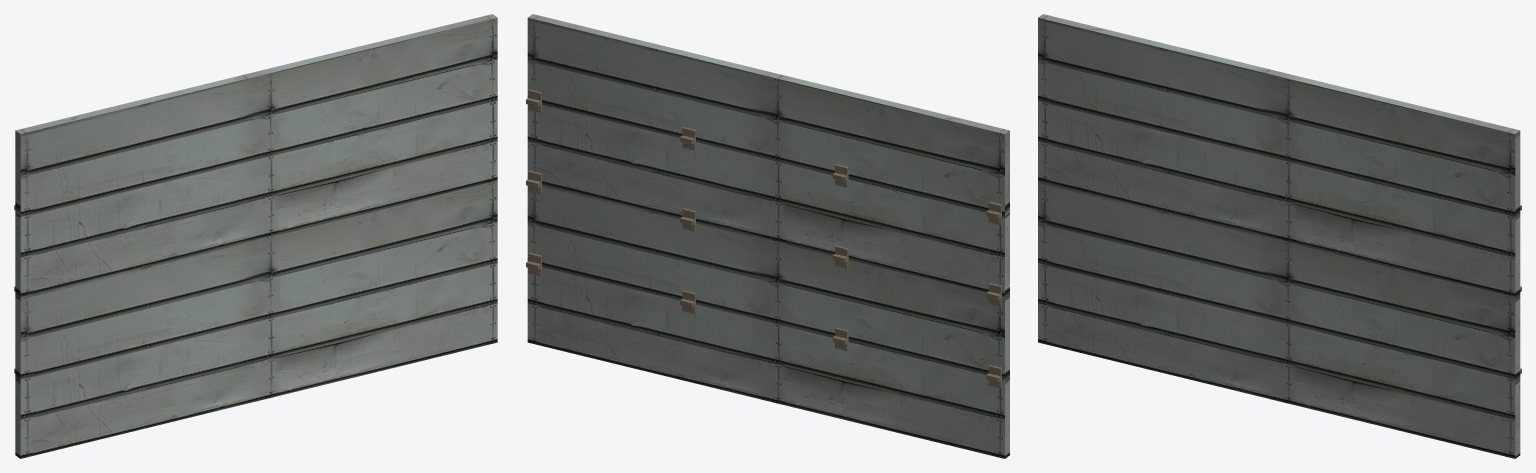
File: Door_1.fbx
3 views of the same model, side by side, from view 1: azimuth 30°, elevation 25°; view 2: azimuth 150°, elevation 25°; view 3: azimuth 330°, elevation 25° (orthographic).
Visible parts, largest first — view 1: Door_1; view 2: Door_1; view 3: Door_1.
Boxes of the visible parts, x1=… form: Door_1: x1=14, y1=14, x2=497, y2=458; Door_1: x1=526, y1=14, x2=1009, y2=458; Door_1: x1=1038, y1=14, x2=1521, y2=458.
Size of the model in its own units: 297 by 193 by 9.67.
